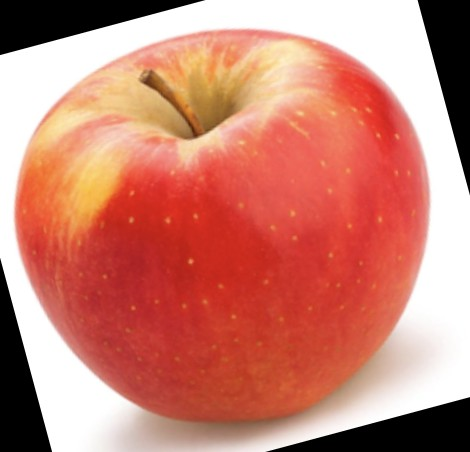fresh_apple: (21, 28, 428, 428)
